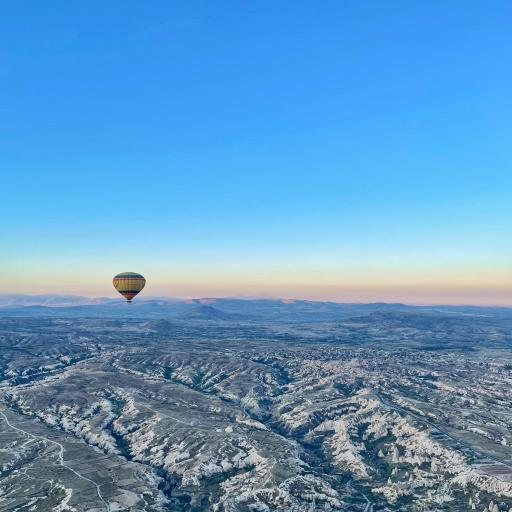hot air ballon: (113, 272, 146, 303)
